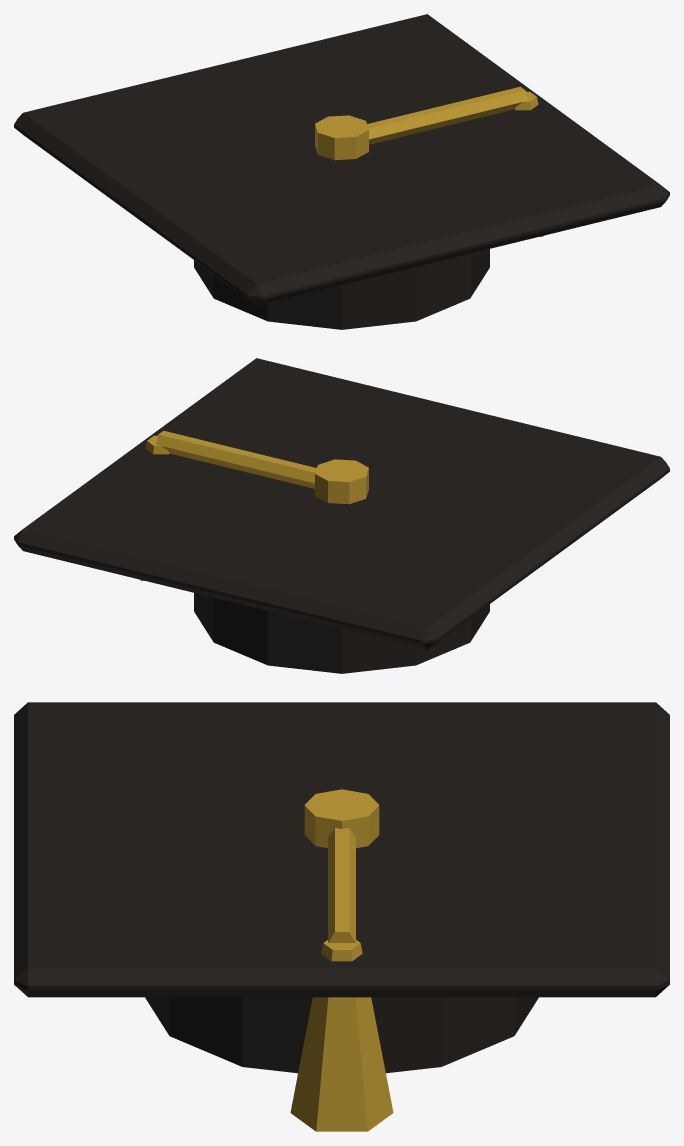
File: gradcap.glb
3 views of the same model, one above another, from view 1: azimuth 30°, elevation 25°; view 2: azimuth 150°, elevation 25°; view 3: azimuth 270°, elevation 25° (orthographic). The views are drawn at different scales.
Visible parts, largest first — view 1: Crown_mesh, Tassel_mesh; view 2: Crown_mesh, Tassel_mesh; view 3: Crown_mesh, Tassel_mesh.
Part boxes in pixels (bbox=[...]): Crown_mesh: bbox=[14, 14, 669, 329]; Tassel_mesh: bbox=[367, 86, 543, 236]; Crown_mesh: bbox=[14, 358, 669, 673]; Tassel_mesh: bbox=[140, 430, 316, 580]; Crown_mesh: bbox=[14, 702, 669, 1073]; Tassel_mesh: bbox=[290, 828, 393, 1131].
Bounding box in the file's own units: 0.28 × 0.089 × 0.28.
